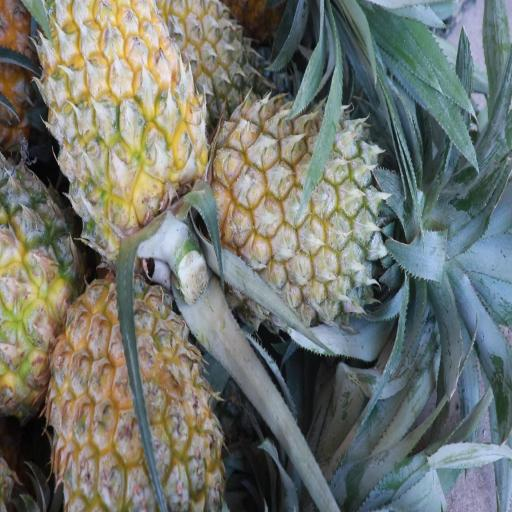------------------------------: (1, 155, 96, 421)
Pineapple - v8 v1: (39, 0, 213, 295), (210, 92, 416, 338), (39, 275, 226, 511)
